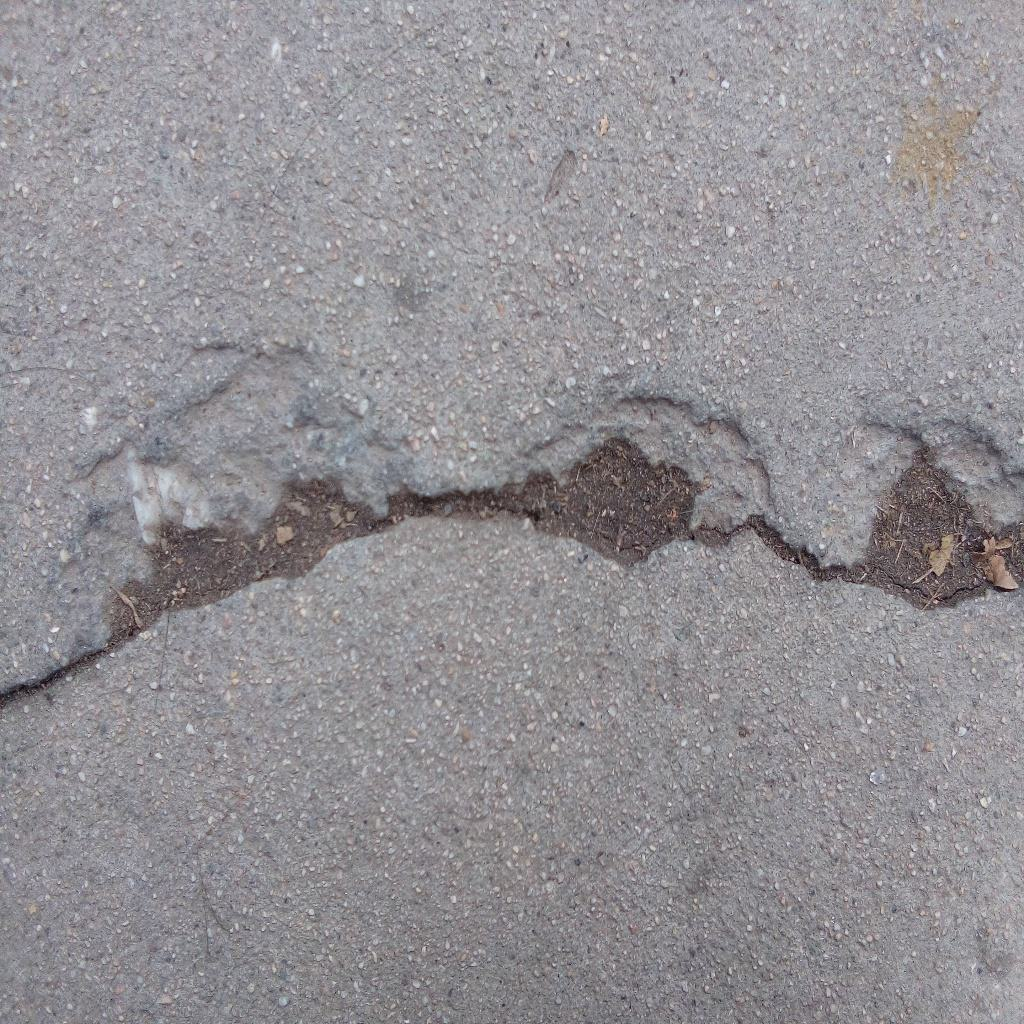Crack: (746, 513, 855, 585), (1, 640, 110, 707), (413, 479, 527, 519)
Spalling: (62, 341, 412, 640), (528, 396, 767, 568), (856, 413, 1024, 613)
